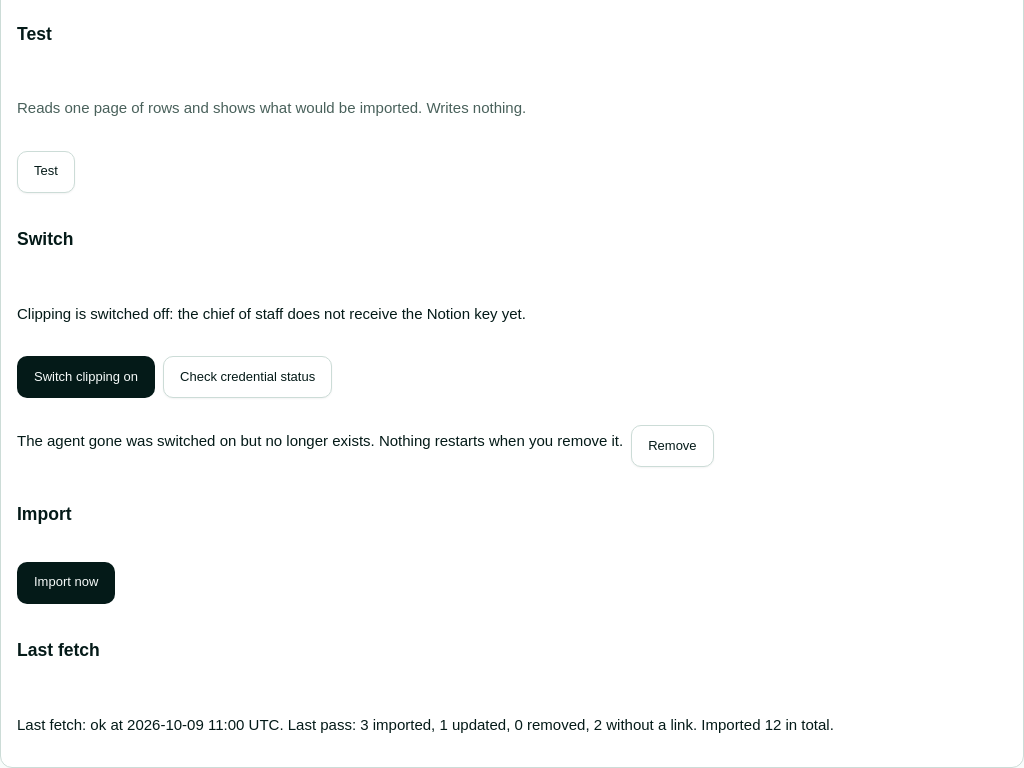
Test: the switch confirms before restarting anything › Remove on a stale grant revokes that agent
(page scrolled)
Click the button "Remove" at (672, 446), box left=631, top=425, right=714, bottom=467
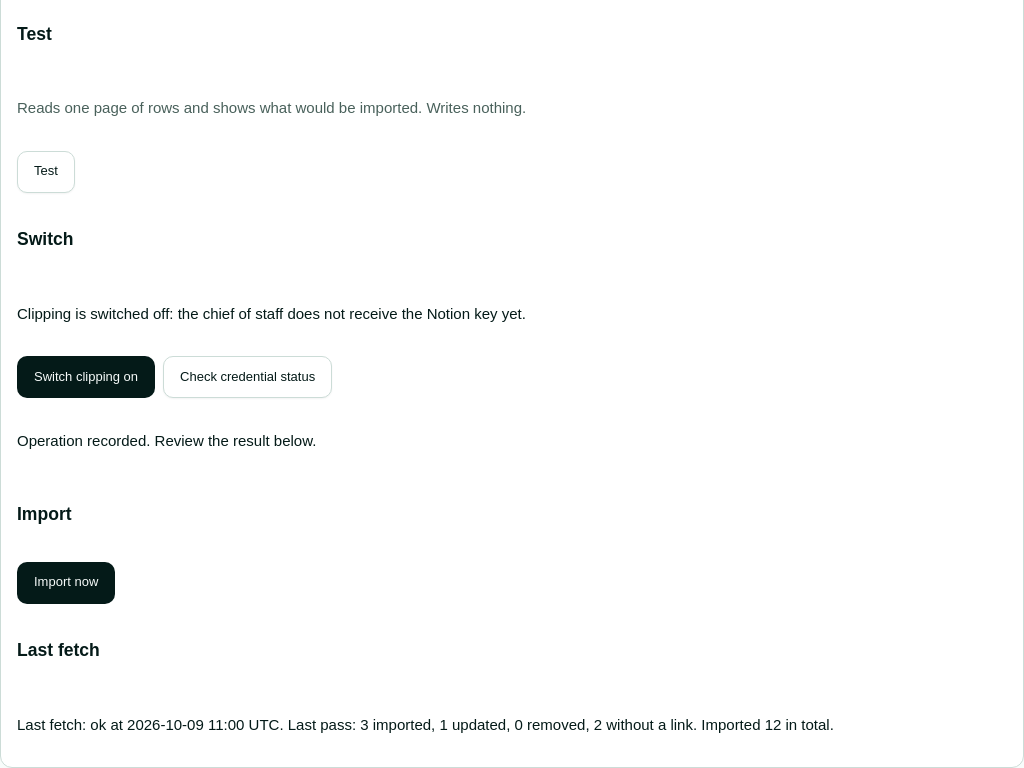
Expected: the text "no longer exists" is gone
